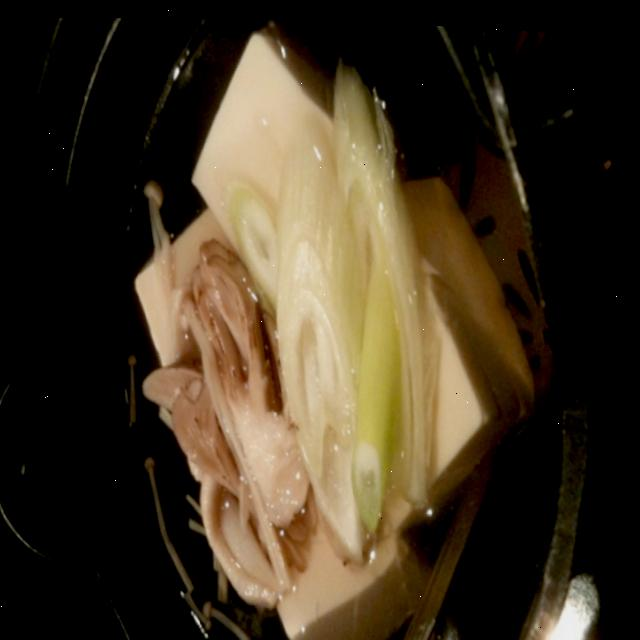豆腐料理: (83, 9, 557, 640)
